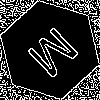M: (25, 25, 88, 87)
